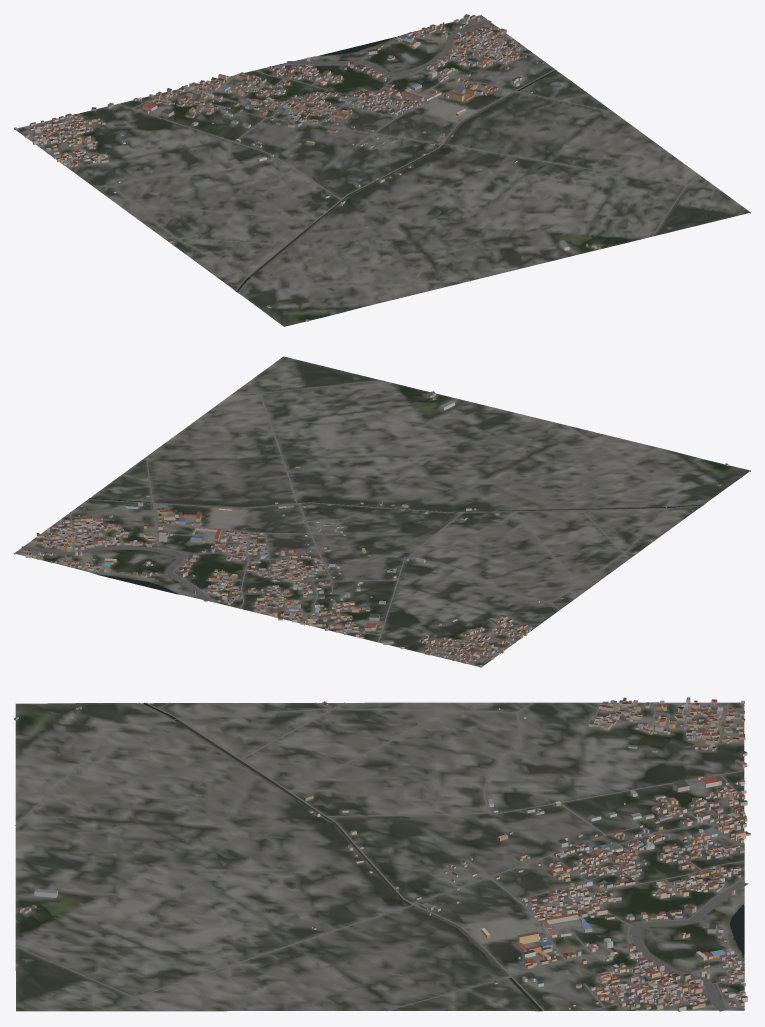
3 renders of one model, top to bottom at view 1: azimuth 30°, elevation 25°; view 2: azimuth 150°, elevation 25°; view 3: azimuth 270°, elevation 25°, orthographic. The views are drawn at different scales.
Visible parts, largest first — view 1: ground, buildings, roads, water; view 2: ground, buildings, roads, water; view 3: ground, buildings, roads, water.
Part boxes in pixels (x1=…): ground: x1=14, y1=15, x2=750, y2=326; buildings: x1=14, y1=14, x2=600, y2=321; roads: x1=16, y1=15, x2=700, y2=292; water: x1=236, y1=36, x2=556, y2=291; ground: x1=14, y1=356, x2=750, y2=666; buildings: x1=21, y1=391, x2=728, y2=667; roads: x1=16, y1=380, x2=705, y2=666; water: x1=89, y1=498, x2=703, y2=593; ground: x1=15, y1=702, x2=744, y2=1011; buildings: x1=14, y1=697, x2=750, y2=1011; roads: x1=15, y1=702, x2=748, y2=1011; water: x1=143, y1=702, x2=743, y2=1011.
Size of the model in its own units: 1412 by 21.45 by 1418.
